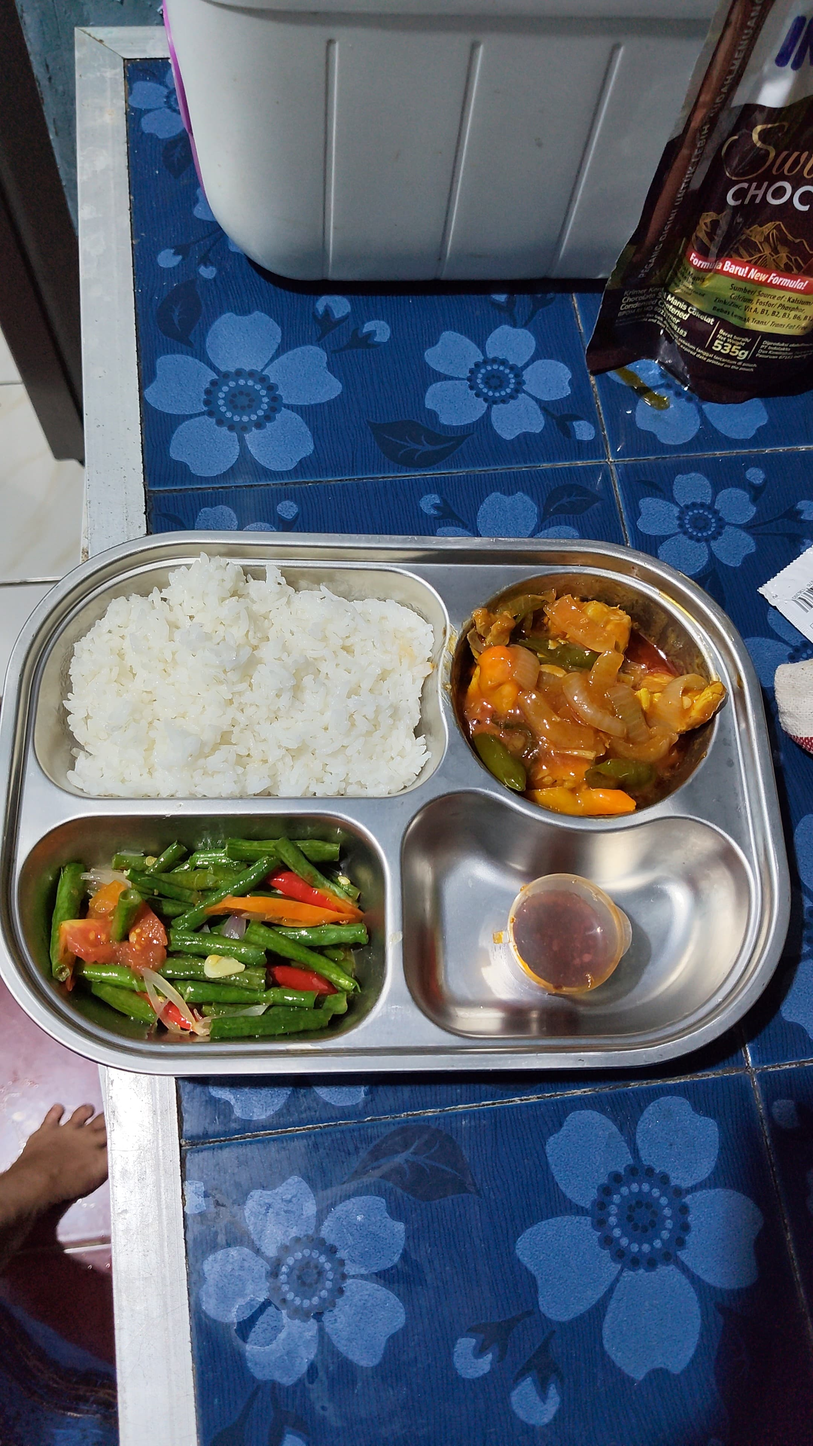buah_sayur_lainnya: (41, 828, 348, 1036)
makanan_berpati: (98, 593, 433, 800)
